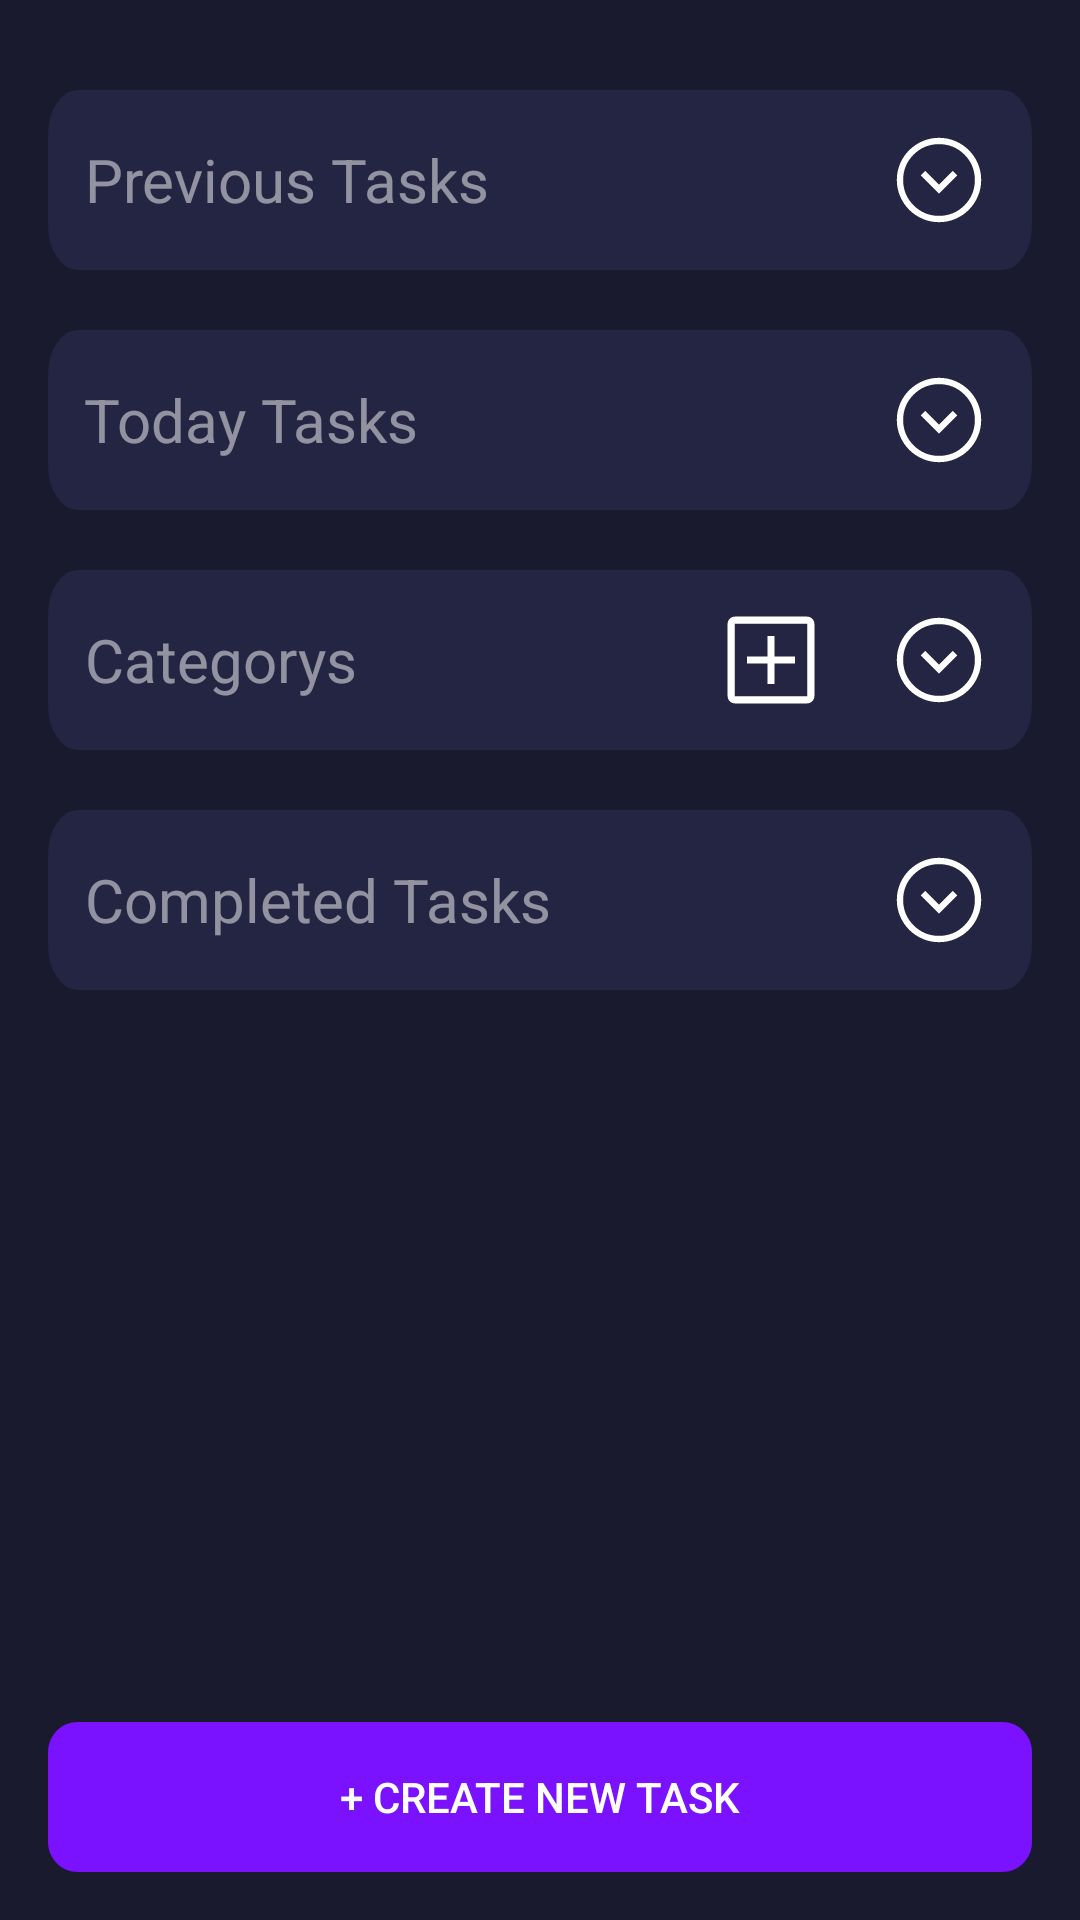

Where to tap for icons on this 1080w x 1920h app screen, as (x=x, y=y):
add category: (x=771, y=660)
